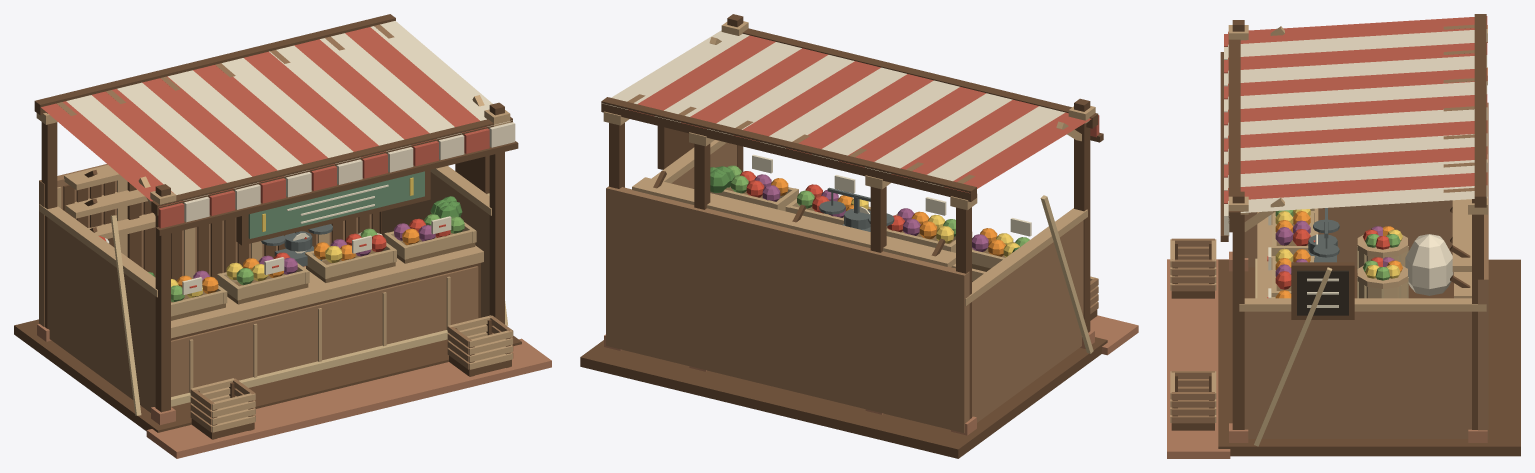
The model's file is market_stall_colorfix.fbx.
3 views of the same model, side by side, from view 1: azimuth 30°, elevation 25°; view 2: azimuth 150°, elevation 25°; view 3: azimuth 270°, elevation 25° (orthographic). The views are drawn at different scales.
Parts seen in each view (by area): view 1: Counter inset face, Side stall panel, Customer standing apron, Timber stall base, Counter timber top, Signboard green face, Front canopy beam, Striped awning panel 12, Striped awning panel 05, Striped awning panel 10, Striped awning panel 03, Striped awning panel 08 (+50 smaller); view 2: Rear stall wall, Timber stall base, Side stall panel, Rear canopy beam, Rear display shelf.002, Striped awning panel 12, Striped awning panel 01, Striped awning panel 10, Striped awning panel 03, Striped awning panel 05, Striped awning panel 08, Striped awning panel 06 (+19 smaller); view 3: Side stall panel.001, Timber stall base, Customer standing apron, Side stall panel, Striped awning panel 01, Striped awning panel 03, Striped awning panel 05, Striped awning panel 08, Striped awning panel 10, Striped awning panel 12, Striped awning panel 07, Striped awning panel 06 (+30 smaller).
Boxes of the visible parts, x1,y1,x2,y2 form: Counter inset face: (171,266,478,396); Side stall panel: (48,218,155,412); Customer standing apron: (146,338,551,458); Timber stall base: (14,319,521,432); Counter timber top: (171,245,483,338); Signboard green face: (248,171,424,238); Front canopy beam: (151,117,512,215); Striped awning panel 12: (345,27,486,132); Striped awning panel 05: (168,70,309,176); Striped awning panel 10: (294,39,436,145); Striped awning panel 03: (117,82,258,188); Striped awning panel 08: (244,51,385,157); Rear stall wall: (606,186,969,433); Timber stall base: (580,337,1107,458); Side stall panel: (972,220,1083,422); Rear canopy beam: (601,97,976,201); Rear display shelf.002: (632,177,955,266); Striped awning panel 12: (628,35,775,116); Striped awning panel 01: (918,106,1065,186); Striped awning panel 10: (681,48,828,128); Striped awning panel 03: (865,93,1012,173); Striped awning panel 05: (812,80,959,161); Striped awning panel 08: (733,61,880,141); Striped awning panel 06: (786,74,933,154); Side stall panel.001: (1244,311,1471,438); Timber stall base: (1218,259,1520,456); Customer standing apron: (1167,259,1230,458); Side stall panel: (1244,200,1452,267); Striped awning panel 01: (1228,29,1487,57); Striped awning panel 03: (1228,55,1487,83); Striped awning panel 05: (1228,81,1487,109); Striped awning panel 08: (1228,120,1487,148); Striped awning panel 10: (1228,146,1487,174); Striped awning panel 12: (1228,172,1487,200); Striped awning panel 07: (1228,107,1487,135); Striped awning panel 06: (1228,94,1487,122).
Size of the model in its own units: 700 by 434 by 532.
